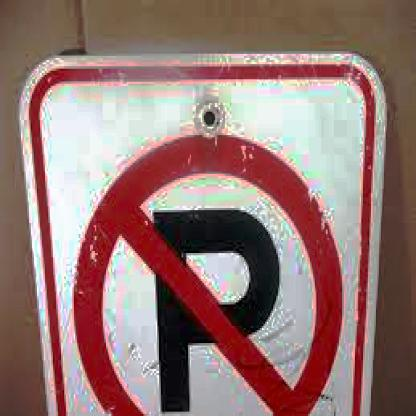No parking: (67, 129, 342, 416)
